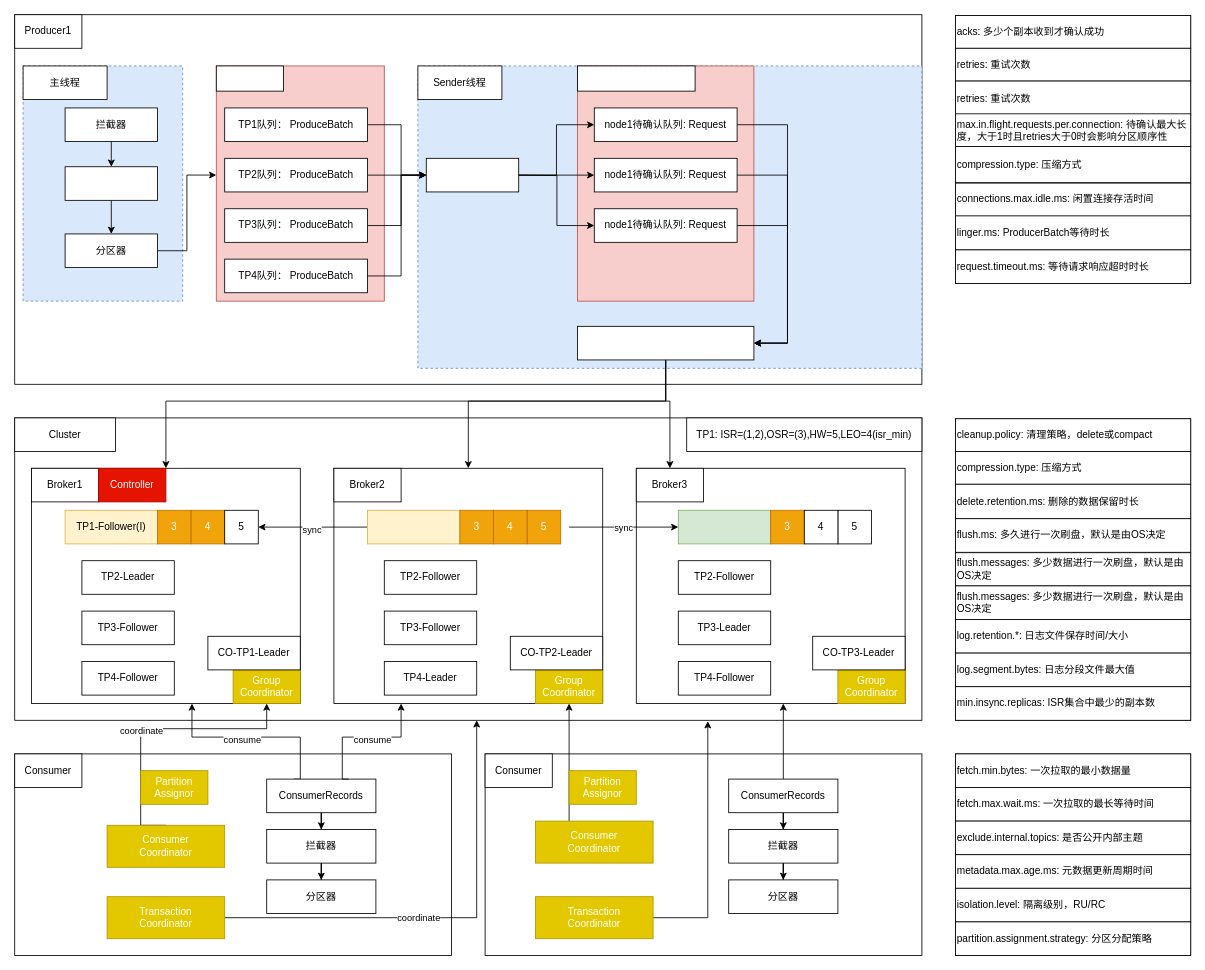
The diagram is 1205 pixels wide and 970 high, and some of its shapes have lost their labels. The centre of each missing label's shape, as x and y in pixels:
Selector: point 665,343
TP1-Follower(O): point 724,526
TP1-Leader(I): point 413,526
创建Request: point 472,175
序列化器: point 111,183
待确认：用于删除Batch: point 636,78
消息聚合器: point 249,78
